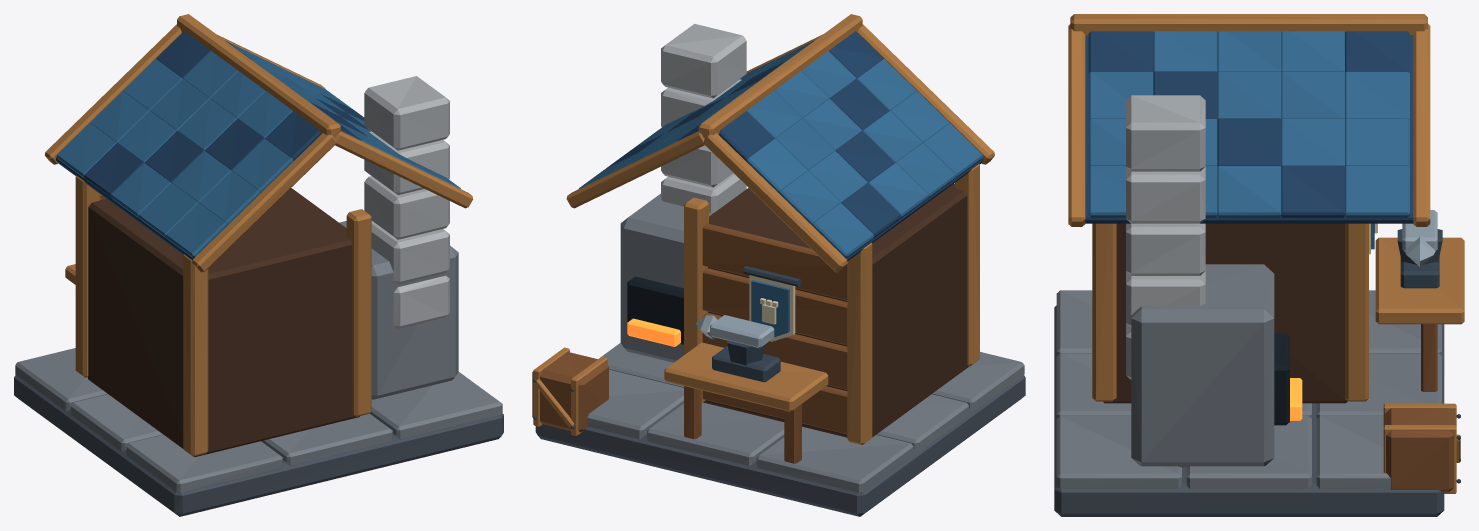
File: building_workshop.glb
The picture shows the model from 3 angles, left to right: view 1: azimuth 30°, elevation 25°; view 2: azimuth 150°, elevation 25°; view 3: azimuth 270°, elevation 25°; orthographic projection. The views are drawn at different scales.
Visible parts, largest first — view 1: body; view 2: body; view 3: body.
Boxes of the visible parts, x1,y1,x2,y2 form: body: [14, 14, 503, 516]; body: [532, 14, 1025, 516]; body: [1054, 14, 1464, 516].
Bounding box in the file's own units: 2.4 × 2.43 × 2.21.
